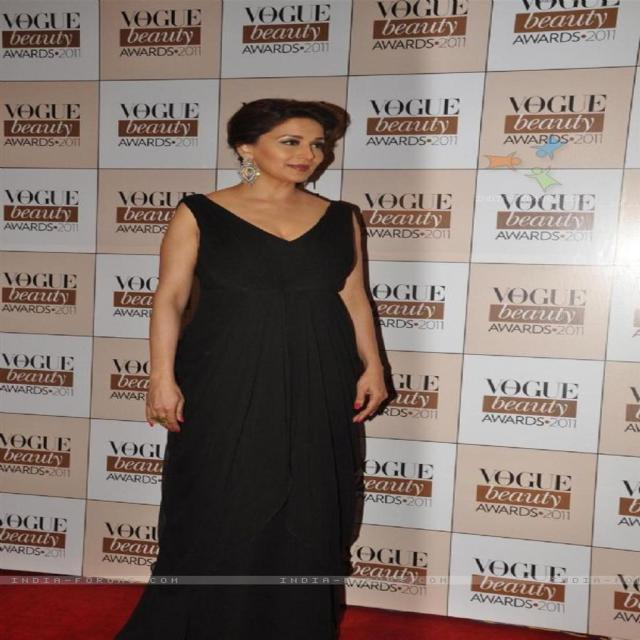Face: (237, 115, 337, 183)
